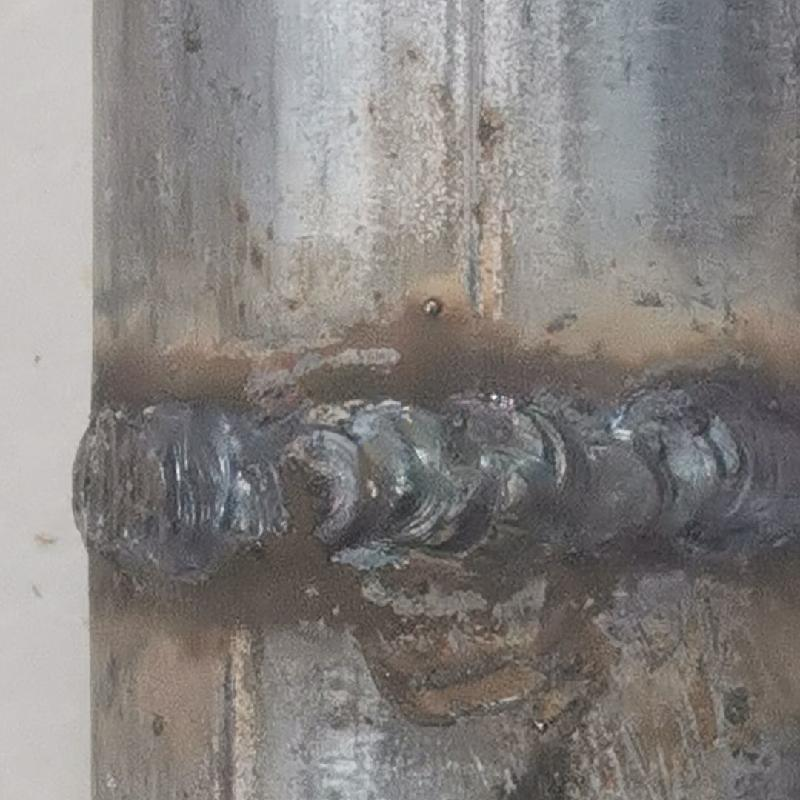good: (62, 395, 799, 557)
